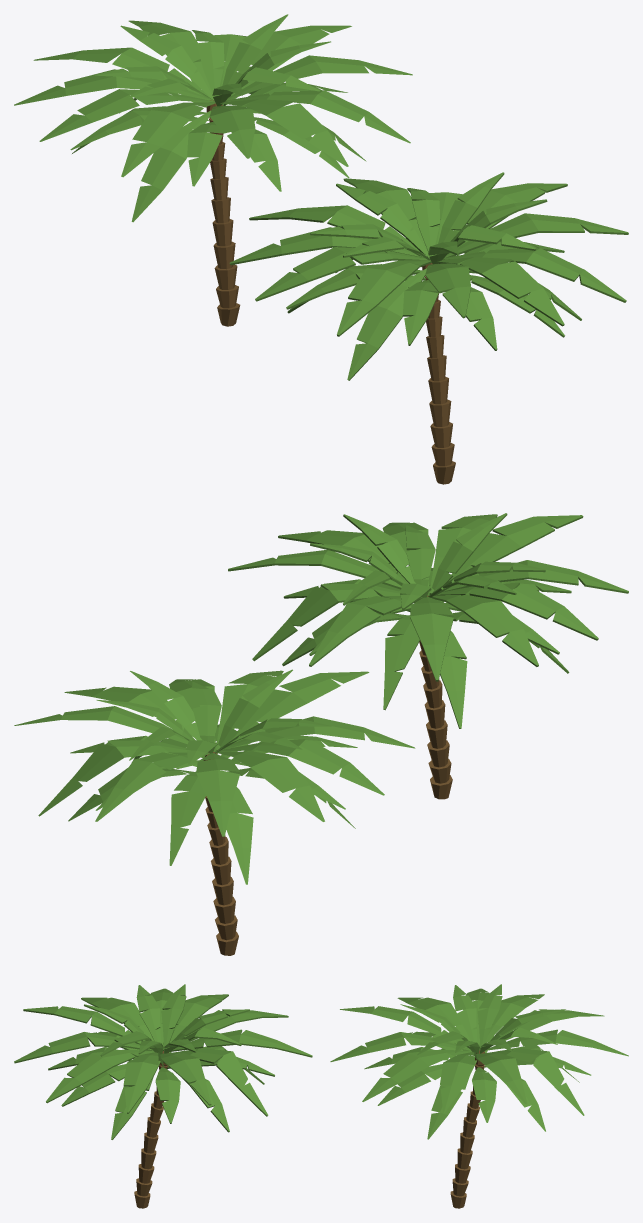
The model's file is LP large Palm tree .fbx.
3 renders of one model, top to bottom at view 1: azimuth 30°, elevation 25°; view 2: azimuth 150°, elevation 25°; view 3: azimuth 270°, elevation 25°, orthographic. The views are drawn at different scales.
Parts seen in each view (by area): view 1: Palm Tree L T, Plam Tree L; view 2: Palm Tree L T, Plam Tree L; view 3: Palm Tree L T, Plam Tree L.
Boxes of the visible parts, <box> form: Palm Tree L T: <box>229,172,628,484</box>; Plam Tree L: <box>14,14,412,326</box>; Palm Tree L T: <box>228,513,628,799</box>; Plam Tree L: <box>14,669,415,955</box>; Palm Tree L T: <box>14,984,312,1208</box>; Plam Tree L: <box>330,984,628,1208</box>.
Size of the model in its own units: 1838 by 1329 by 3837.
